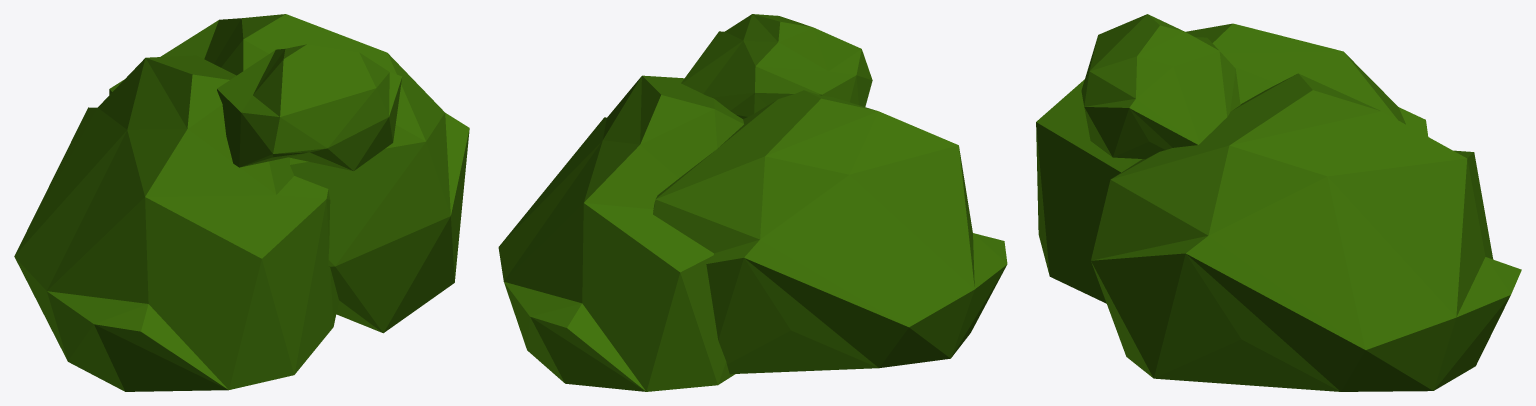
The model's file is bush_4.FBX.
The picture shows the model from 3 angles, left to right: view 1: azimuth 30°, elevation 25°; view 2: azimuth 150°, elevation 25°; view 3: azimuth 270°, elevation 25°; orthographic projection. The views are drawn at different scales.
Parts seen in each view (by area): view 1: bush_4; view 2: bush_4; view 3: bush_4.
Part boxes in pixels (<box>): bush_4: <box>14,14,469,391</box>; bush_4: <box>498,14,1007,391</box>; bush_4: <box>1036,14,1521,391</box>.
Bounding box in the file's own units: 689 × 455 × 646.
